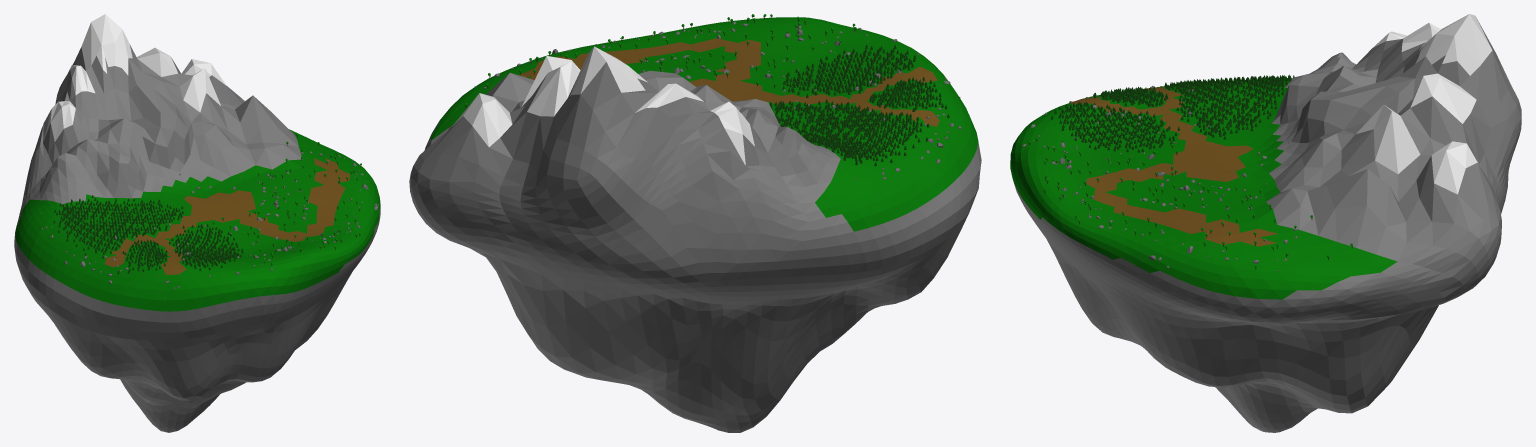
Rendered from Island v3.fbx.
3 views of the same model, side by side, from view 1: azimuth 30°, elevation 25°; view 2: azimuth 150°, elevation 25°; view 3: azimuth 270°, elevation 25° (orthographic). The views are drawn at different scales.
Parts seen in each view (by area): view 1: Island; view 2: Island; view 3: Island.
Boxes of the visible parts, left/top/right/bottom form: Island: left=14, top=14, right=380, bottom=432; Island: left=409, top=17, right=981, bottom=432; Island: left=1010, top=14, right=1521, bottom=432.
Bounding box in the file's own units: 554284 × 532835 × 581803.
